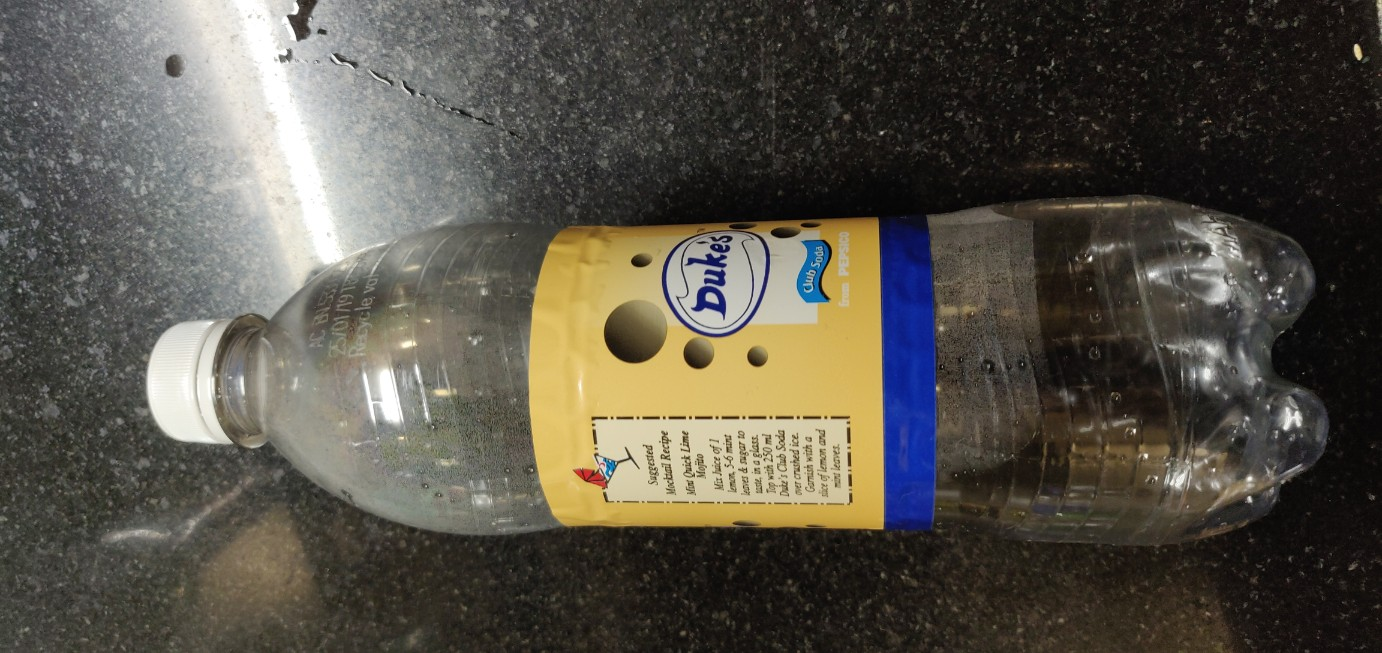Electronics: (127, 166, 1356, 585)
